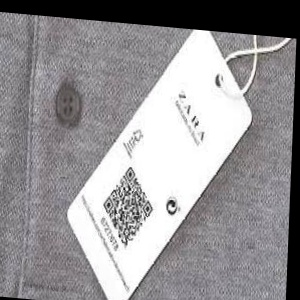zara: (99, 106, 293, 176)
